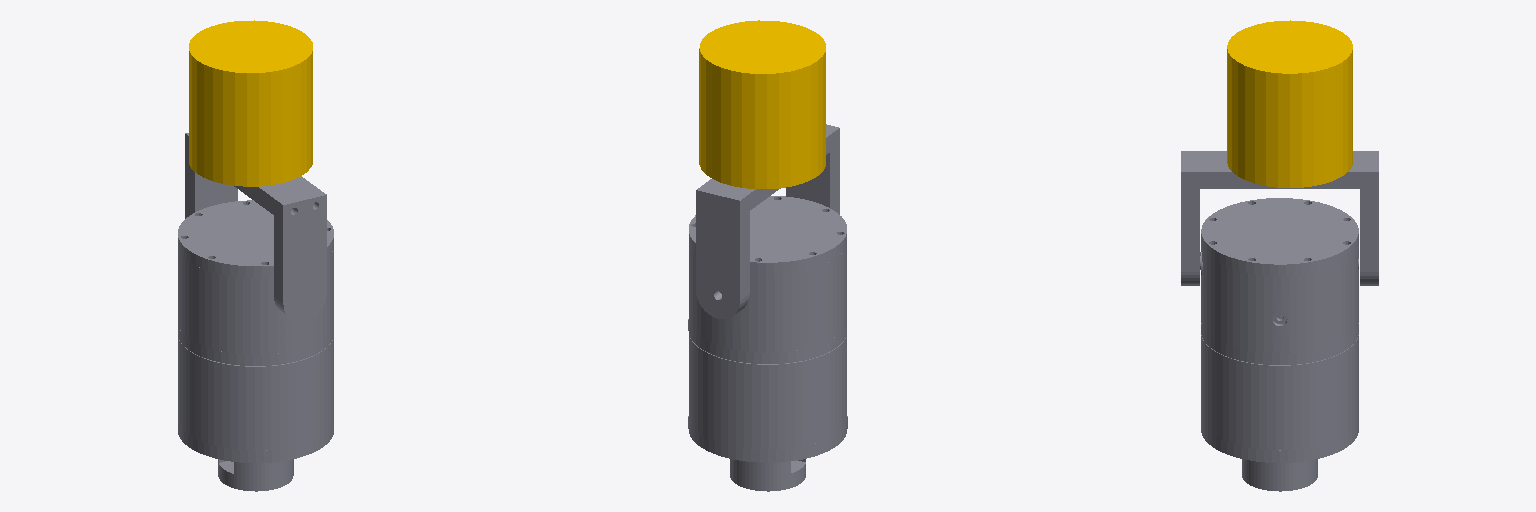
robot.urdf — xm540_manipulator:
<?xml version="1.0"?>
<robot name="xm540_manipulator">

  <!-- Wirtualna baza -->
  <link name="base_link">
    <inertial>
      <mass value="0.001"/>
      <inertia ixx="0.000001" ixy="0" ixz="0" iyy="0.000001" iyz="0" izz="0.000001"/>
    </inertial>
  </link>

  <!-- Człon 0 – baza, nieruchomy -->
  <link name="link_0">
    <visual>
      <origin xyz="0 0 0" rpy="3.14159 0 0"/>
      <geometry>
        <mesh filename="package://xm540_bringup/meshes/link_0.stl" scale="0.001 0.001 0.001"/>
      </geometry>
      <material name="robot_grey">
        <color rgba="0.6 0.6 0.65 1.0"/>
      </material>
    </visual>
    <collision>
      <origin xyz="0 0 0" rpy="3.14159 0 0"/>
      <geometry>
        <mesh filename="package://xm540_bringup/meshes/link_0.stl" scale="0.001 0.001 0.001"/>
      </geometry>
    </collision>
    <inertial>
      <mass value="0.3"/>
      <inertia ixx="0.0005" ixy="0" ixz="0" iyy="0.0005" iyz="0" izz="0.0003"/>
    </inertial>
  </link>

  <joint name="base_to_link0" type="fixed">
    <parent link="base_link"/>
    <child link="link_0"/>
    <origin xyz="0 0 0" rpy="0 0 0"/>
  </joint>

  <!-- Człon 1 -->
  <link name="link_1">
    <visual>
      <geometry>
        <mesh filename="package://xm540_bringup/meshes/link_1.stl" scale="0.001 0.001 0.001"/>
      </geometry>
      <material name="robot_grey">
        <color rgba="0.6 0.6 0.65 1.0"/>
      </material>
    </visual>
    <collision>
      <geometry>
        <mesh filename="package://xm540_bringup/meshes/link_1.stl" scale="0.001 0.001 0.001"/>
      </geometry>
    </collision>
    <inertial>
      <mass value="0.2"/>
      <inertia ixx="0.0003" ixy="0" ixz="0" iyy="0.0003" iyz="0" izz="0.0002"/>
    </inertial>
  </link>

  <joint name="xm540_joint_z" type="revolute">
    <parent link="link_0"/>
    <child link="link_1"/>
    <origin xyz="0 0 0.1255" rpy="0 0 0"/>
    <axis xyz="0 0 1"/>
    <limit lower="-1.5708" upper="1.5708" effort="10.6" velocity="2.69"/>
  </joint>

  <!-- Człon 2 -->
  <link name="link_2">
    <visual>
      <geometry>
        <mesh filename="package://xm540_bringup/meshes/link_2.stl" scale="0.001 0.001 0.001"/>
      </geometry>
      <material name="robot_grey">
        <color rgba="0.6 0.6 0.65 1.0"/>
      </material>
    </visual>
    <collision>
      <geometry>
        <mesh filename="package://xm540_bringup/meshes/link_2.stl" scale="0.001 0.001 0.001"/>
      </geometry>
    </collision>
    <inertial>
      <mass value="0.15"/>
      <inertia ixx="0.0002" ixy="0" ixz="0" iyy="0.0002" iyz="0" izz="0.0001"/>
    </inertial>
  </link>

  <joint name="xm540_joint" type="revolute">
    <parent link="link_1"/>
    <child link="link_2"/>
    <origin xyz="0 0.0635 0.062" rpy="0 1.5708 0"/>
    <axis xyz="0 1 0"/>
    <limit lower="-1.5708" upper="1.5708" effort="10.6" velocity="2.69"/>
  </joint>

  <!-- Sonar – zafixowany do link_2, wiązka wzdłuż +X sonar_link -->
  <link name="sonar_link">
    <visual>
      <origin rpy="0 1.5708 0"/>
      <geometry>
        <cylinder radius="0.05" length="0.10"/>
      </geometry>
      <material name="sonar_yellow">
        <color rgba="1.0 0.8 0.0 1.0"/>
      </material>
    </visual>
    <inertial>
      <mass value="0.001"/>
      <inertia ixx="0.000001" ixy="0" ixz="0" iyy="0.000001" iyz="0" izz="0.000001"/>
    </inertial>
  </link>

  <joint name="sonar_joint" type="fixed">
    <parent link="link_2"/>
    <child link="sonar_link"/>
    <origin xyz="-0.137 -0.0555 0" rpy="0 3.14159 0"/>
  </joint>

</robot>

--- What the picture shows (computed from the rendered views, not written in the file) ---
The picture shows the robot from 3 angles, left to right: view 1: azimuth 30°, elevation 25°; view 2: azimuth 150°, elevation 25°; view 3: azimuth 270°, elevation 25°; orthographic projection.
Robot: xm540_manipulator — 5 links, 4 joints (2 revolute, 2 fixed); root link base_link; default pose: all joints at 0.
Links seen in each view (by area): view 1: sonar_link, link_1, link_0, link_2; view 2: sonar_link, link_1, link_0, link_2; view 3: link_1, sonar_link, link_0, link_2.
Link boxes in pixels (x1,y1,x2,y2): sonar_link: [189, 20, 312, 186]; link_1: [178, 200, 333, 365]; link_0: [178, 338, 333, 491]; link_2: [185, 133, 326, 321]; sonar_link: [699, 20, 825, 188]; link_1: [688, 196, 846, 363]; link_0: [688, 336, 847, 491]; link_2: [696, 124, 839, 318]; link_1: [1201, 198, 1358, 364]; sonar_link: [1227, 20, 1352, 187]; link_0: [1201, 335, 1358, 491]; link_2: [1181, 151, 1378, 285].
Size in the robot's own frame: 0.125 by 0.157 by 0.3745 metres.
3 mesh visuals loaded from 3 distinct referenced files (3 binary STL).
